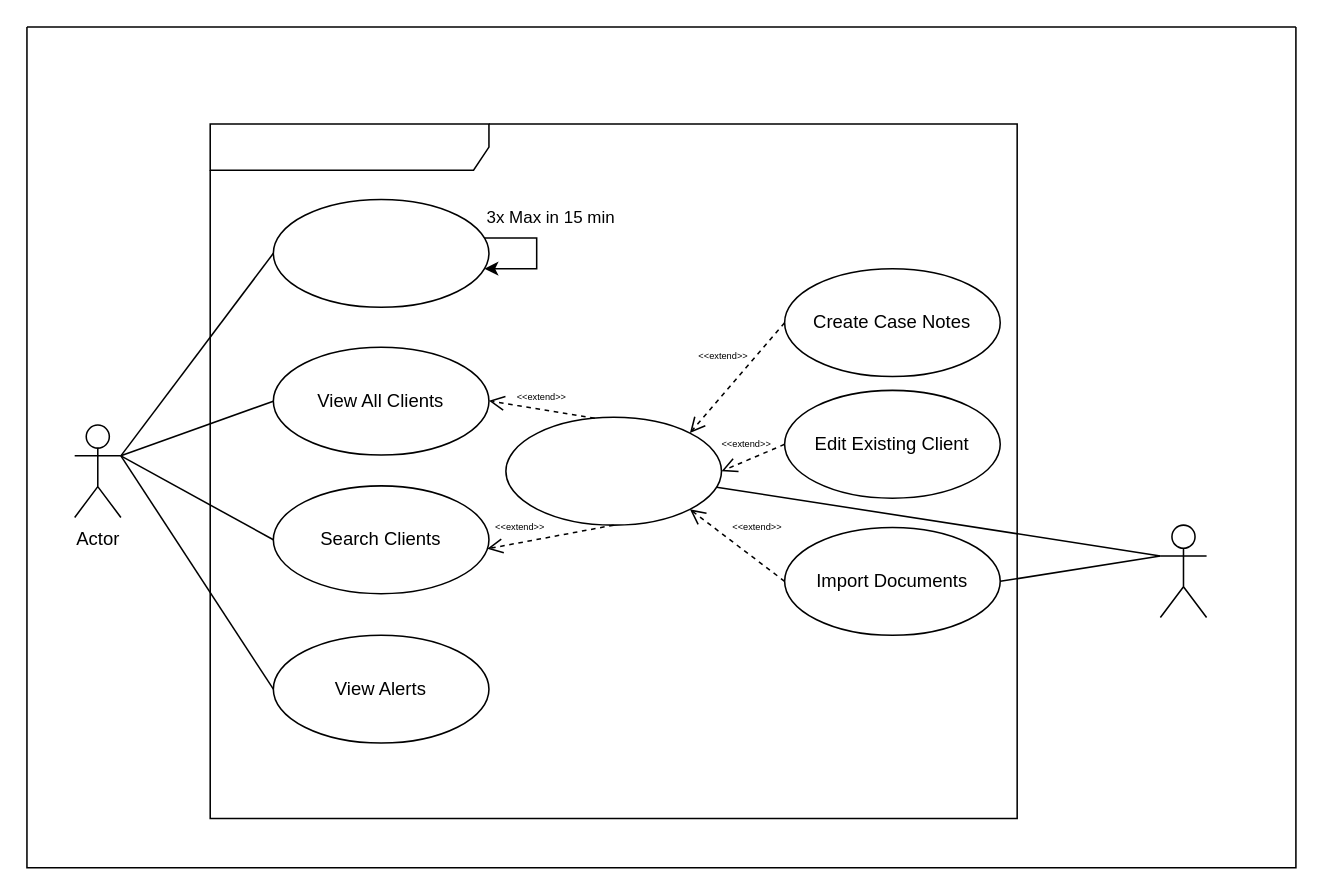
Image size: 1323x895. Some labels were removed from this diagram. Here are the shapes that lost their labels. From the top down, the box of each, then its label:
(272, 198, 489, 307): Log In
(504, 416, 721, 525): View Individual Client Details
(209, 122, 1017, 819): HCAR Client Database System
(1159, 524, 1207, 618): Nylex or alternative Cloud Storage Provider
